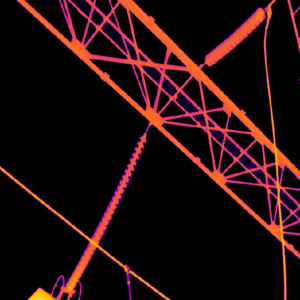insulator: (66, 131, 147, 290), (203, 6, 266, 65)
